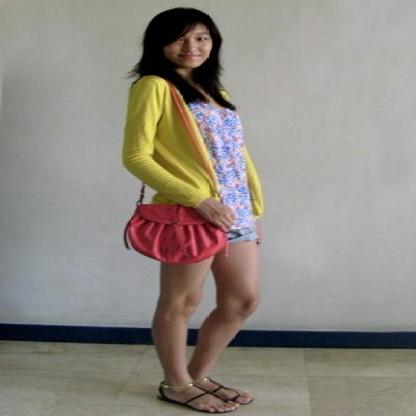bag: (124, 194, 241, 265)
dress: (187, 96, 255, 234)
jacket: (122, 63, 264, 216)
shoe: (162, 379, 236, 413)
